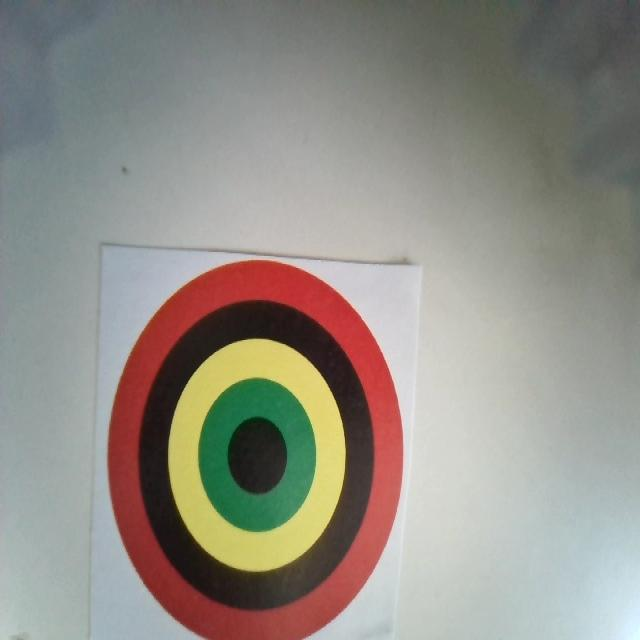cogn: (105, 257, 407, 638)
